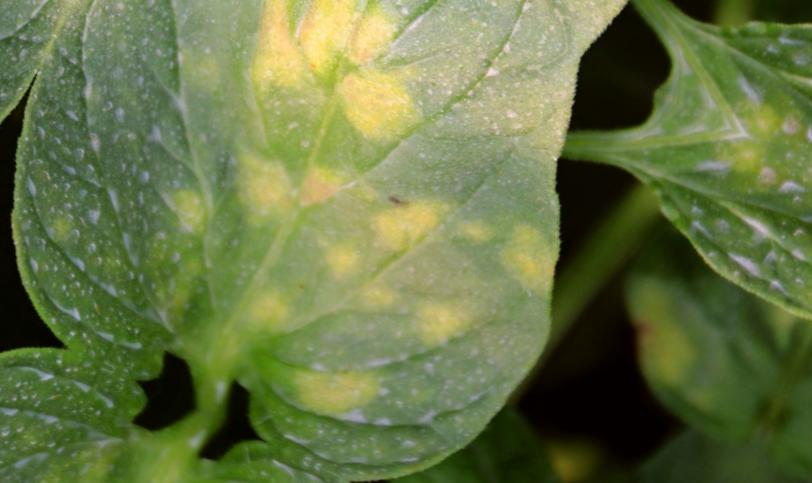Tomato mold leaf: (0, 0, 668, 483)
